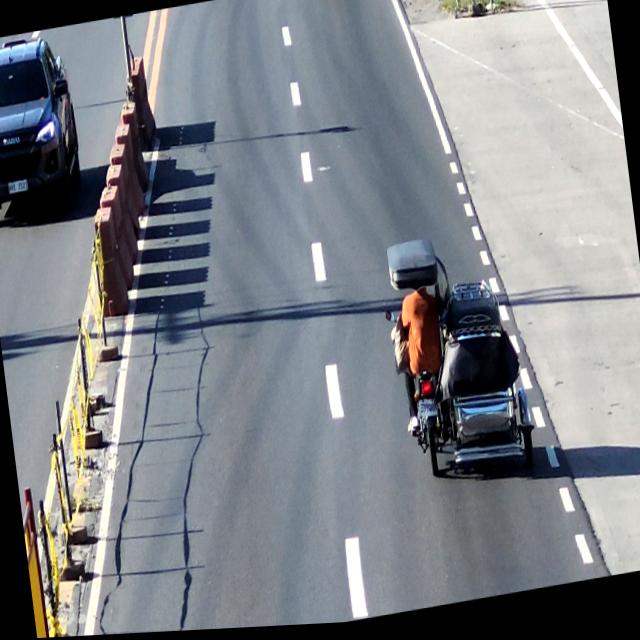Tricycle: (381, 226, 542, 503)
